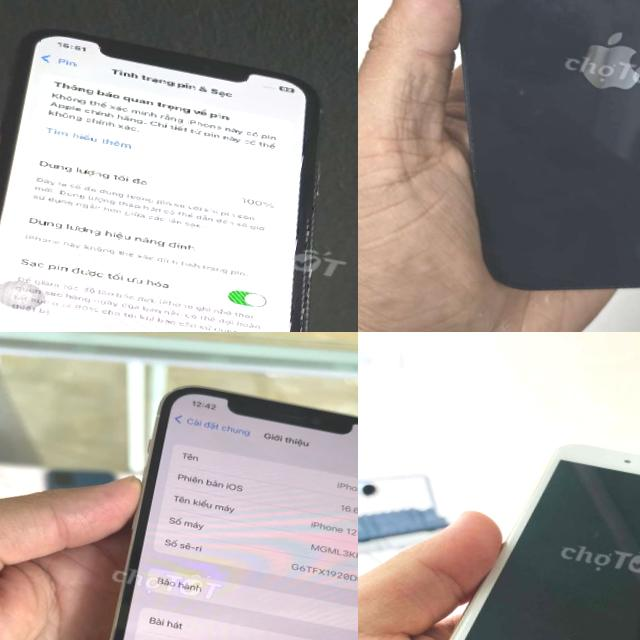gen_12_13: (359, 0, 640, 332), (76, 365, 358, 640)
gen_7_8: (447, 445, 640, 640)
gen_x_xs: (0, 12, 358, 332)
